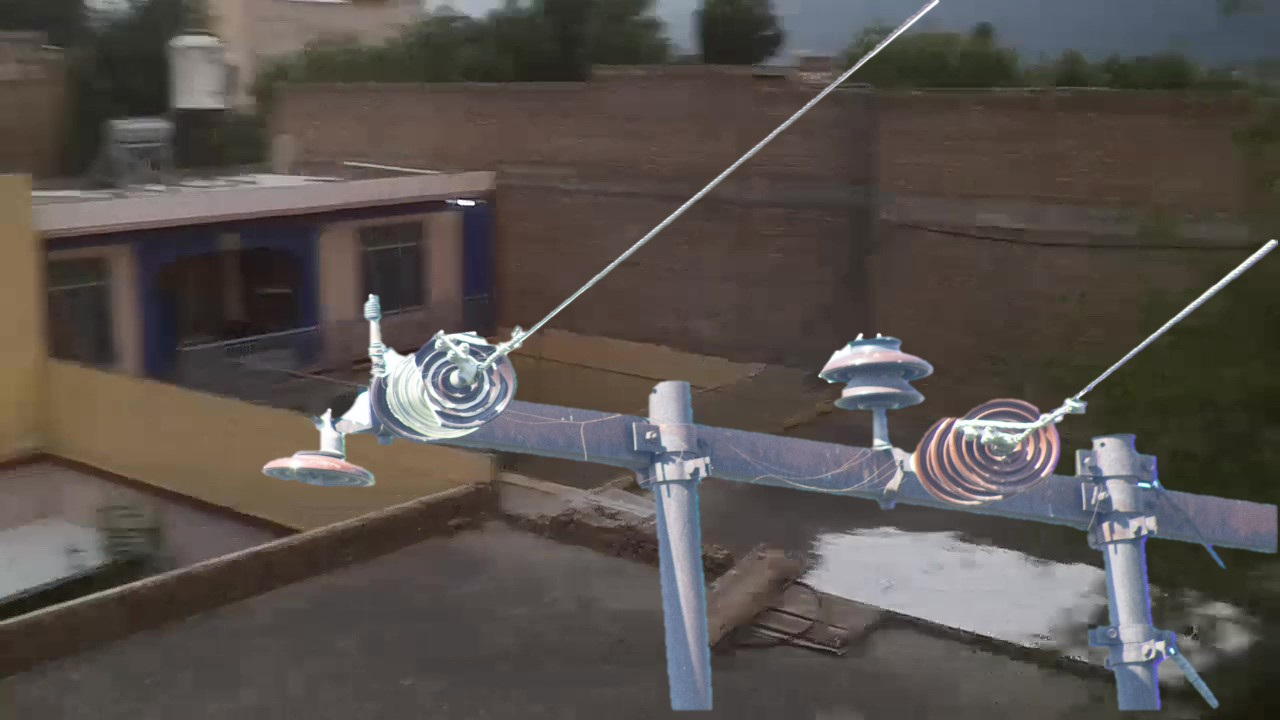defect_disc: (408, 320, 525, 438)
insulator_disc: (949, 385, 1063, 493), (261, 429, 379, 496)
